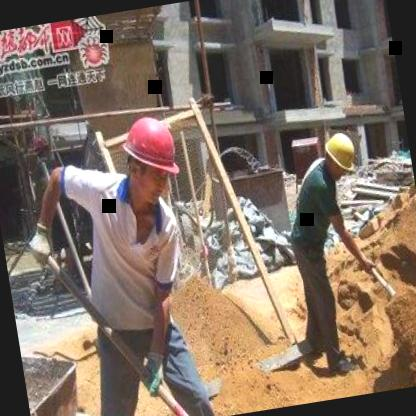helmet: (116, 106, 189, 204), (320, 129, 361, 177)
